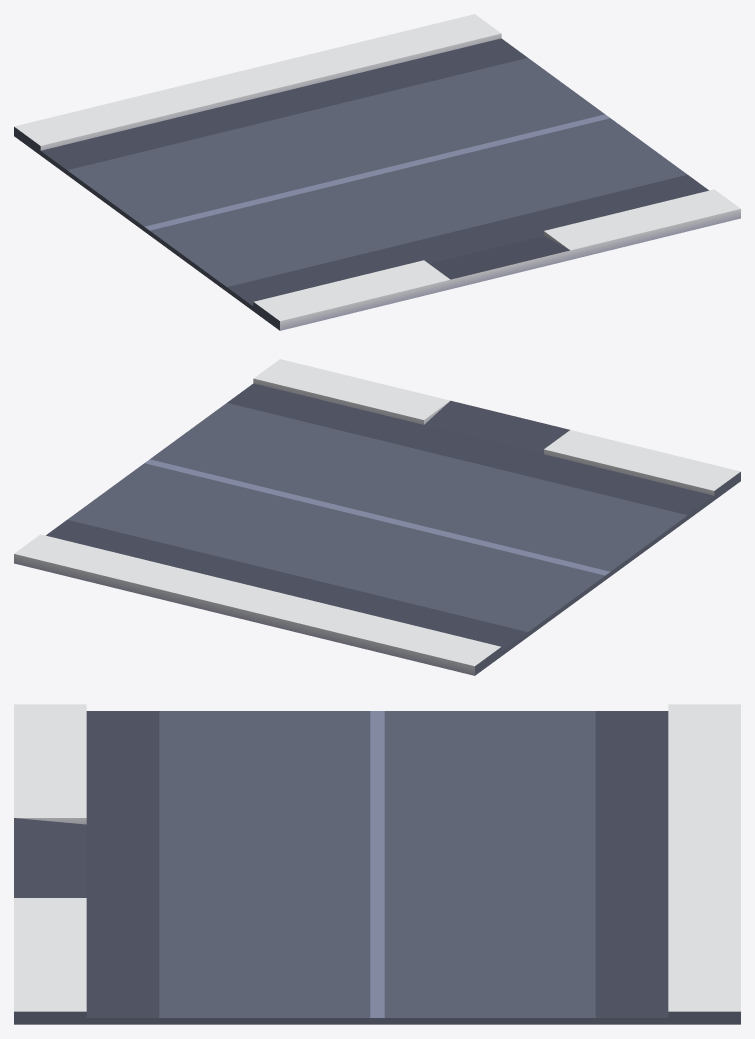
Rendered from kenney-city-roads-road-driveway-single.glb.
3 renders of one model, top to bottom at view 1: azimuth 30°, elevation 25°; view 2: azimuth 150°, elevation 25°; view 3: azimuth 270°, elevation 25°, orthographic. The views are drawn at different scales.
Visible parts, largest first — view 1: road-driveway-single; view 2: road-driveway-single; view 3: road-driveway-single.
Part boxes in pixels (x1,y1,x2,y2): road-driveway-single: (14, 14, 740, 330); road-driveway-single: (14, 359, 740, 675); road-driveway-single: (14, 704, 740, 1024).
Size of the model in its own units: 1 by 0.02 by 1.
1 material, 1 textured.
